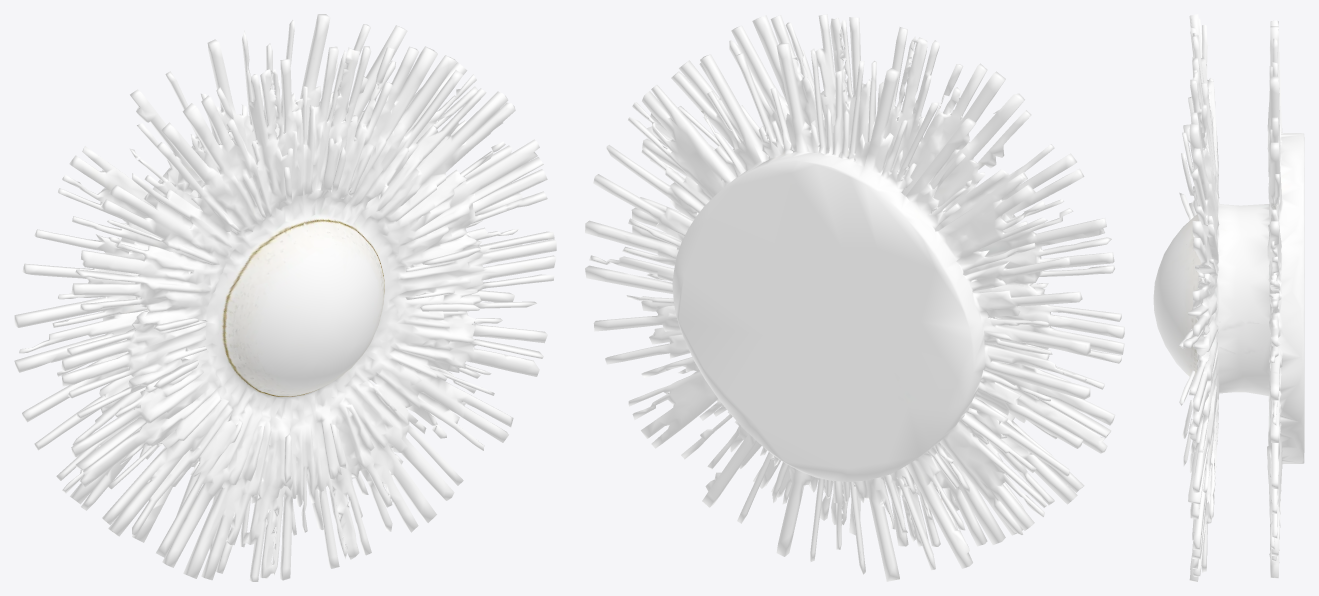
Rendered from grb.glb.
3 renders of one model, left to right at view 1: azimuth 30°, elevation 25°; view 2: azimuth 150°, elevation 25°; view 3: azimuth 270°, elevation 25°, orthographic. The views are drawn at different scales.
Bounding box in the file's own units: 1.91 × 1.88 × 0.513.
1 material, 1 textured.
